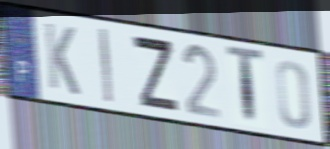0: (275, 58, 313, 132)
2: (180, 41, 224, 122)
I: (97, 25, 115, 106)
K: (42, 19, 82, 99)
T: (225, 43, 265, 131)
Z: (130, 32, 181, 114)
